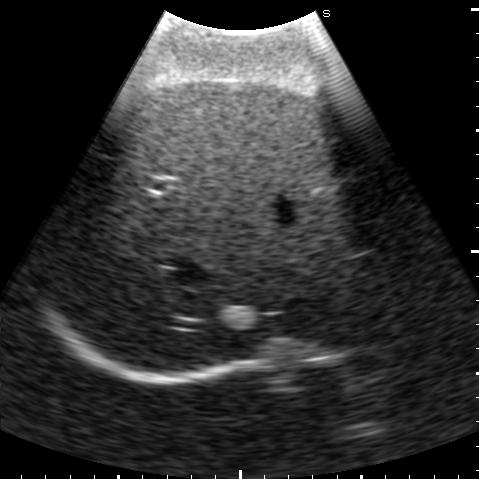S5: (125, 83, 334, 201)
S7: (50, 175, 166, 312)
S8: (111, 184, 381, 373)
Tumor: (218, 306, 260, 332)
